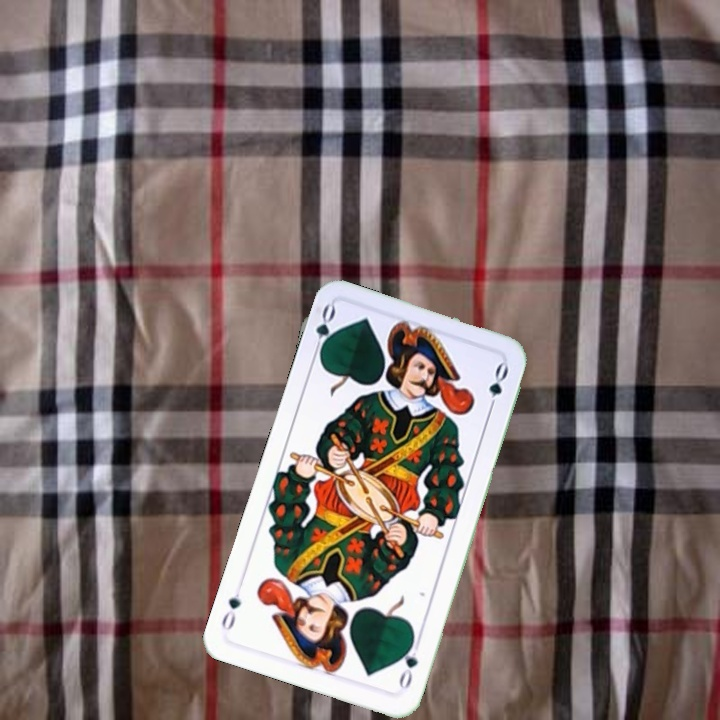GO: (308, 301, 339, 361), (394, 635, 421, 692)
